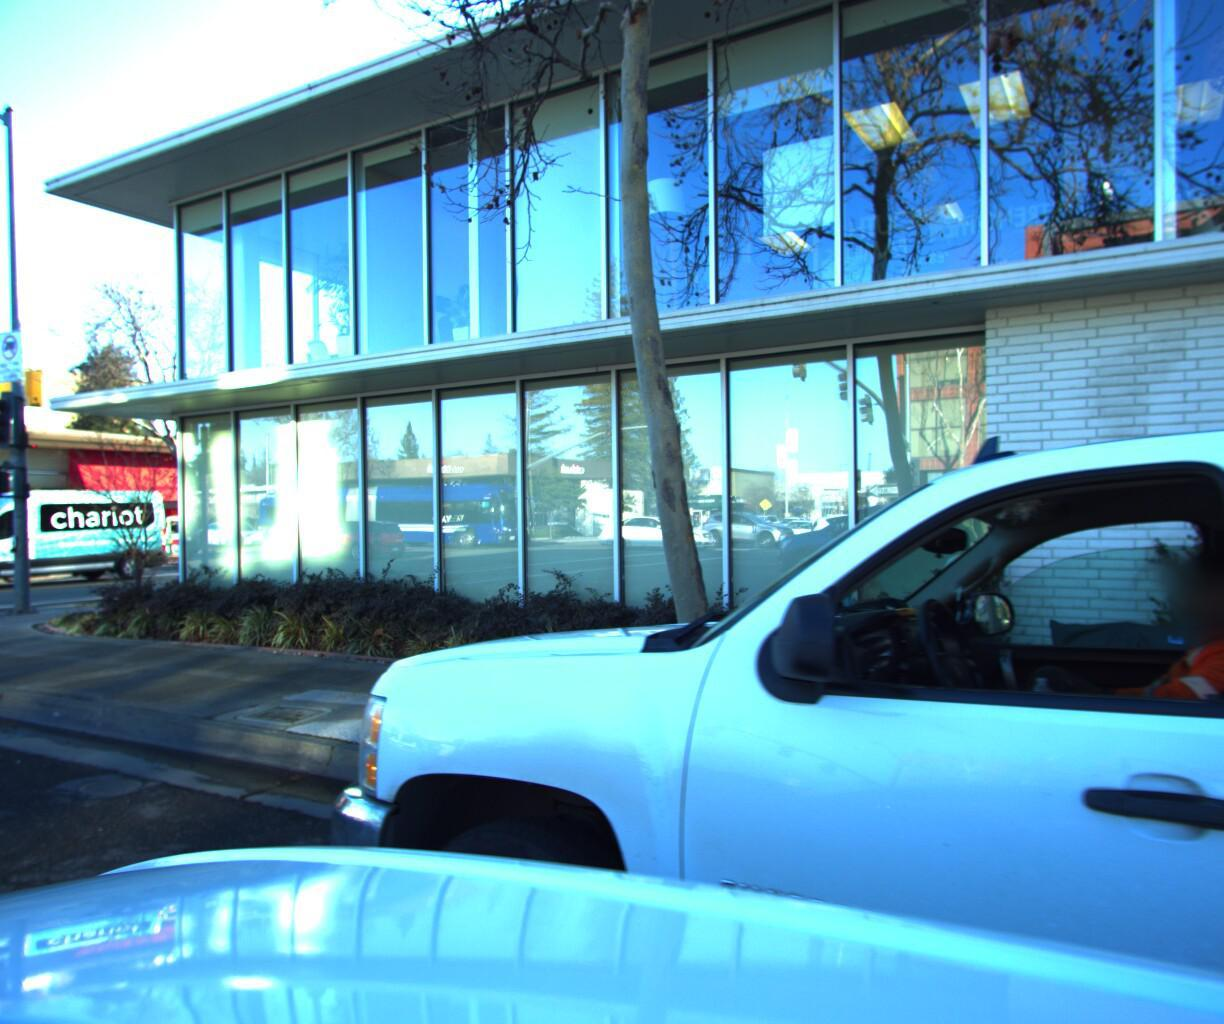car: (0, 479, 179, 592)
